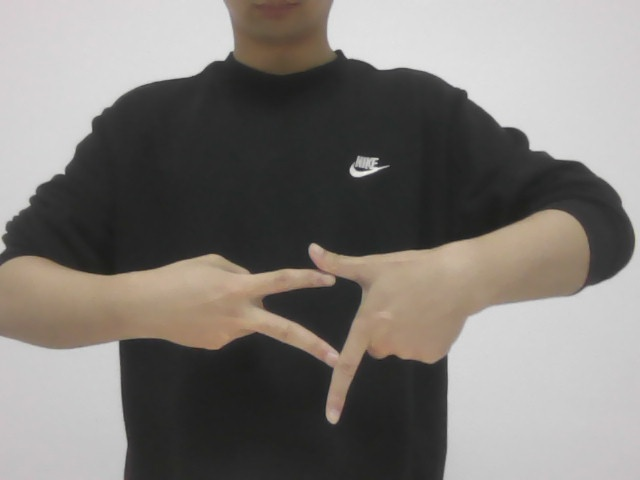introduce: (162, 224, 451, 421)
